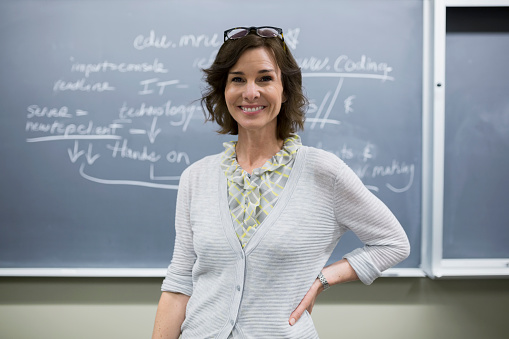em pe: (142, 18, 400, 339)
